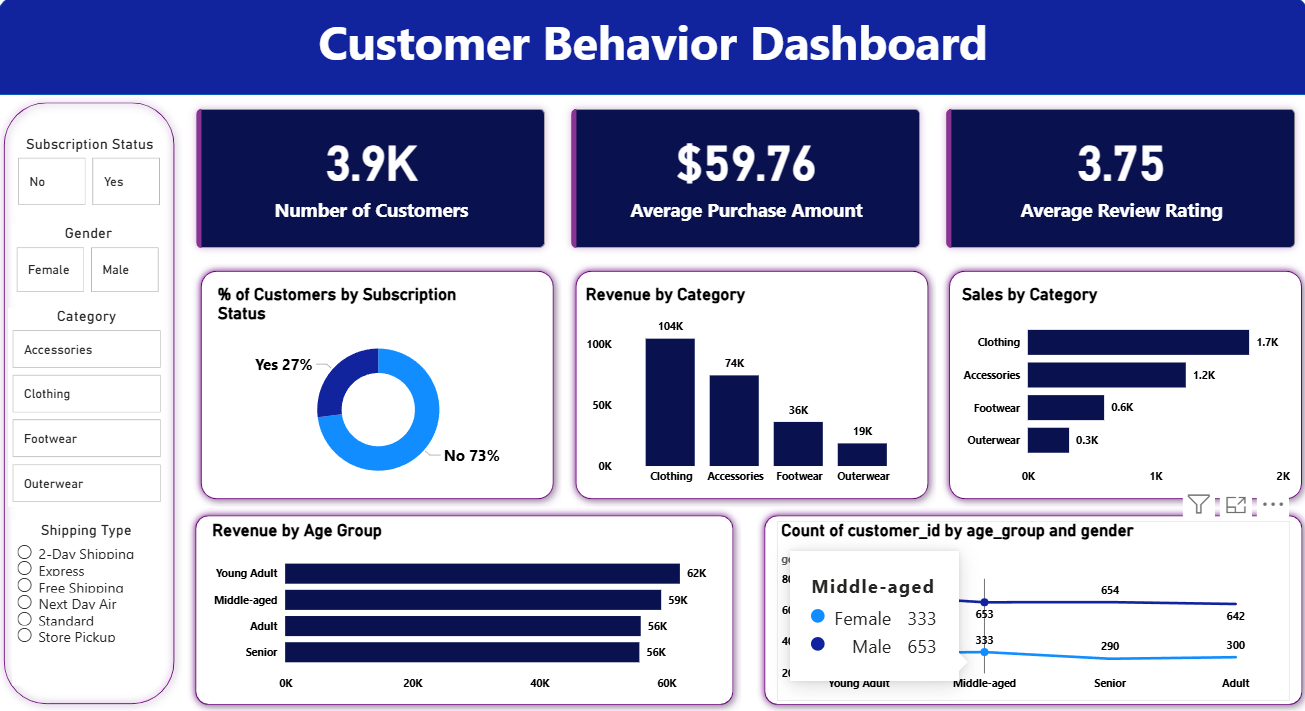

Layout of this report page (visuals, bound fields, positions):
{"tool":"powerbi","page":{"name":"Page 1","canvas":[1500,820],"ordinal":0},"visuals":[{"type":"cardVisual","fields":{"Data":["public customer.Number of Customers","public customer.Average Purchase Amount","public customer.Average Review Rating"]},"box":[212.9,115.3,1286.5,191.6],"z":2000},{"type":"shape","box":[218.3,585.6,631.7,234.2],"z":2500,"group":"g1"},{"type":"shape","box":[0,0,1499.4,115.3],"z":3000},{"type":"textbox","box":[0,12.4,1499.4,102.9],"z":4000},{"type":"shape","box":[225.4,307,420.5,278.6],"z":5000},{"type":"donutChart","title":"% of Customers by Subscription Status","fields":{"Category":["public customer.subscription_status"],"Y":["CountNonNull(public customer.customer_id)"]},"box":[248.4,331.8,376.2,237.8],"z":6000},{"type":"shape","box":[1078.9,307,420.5,278.6],"z":7000},{"type":"shape","box":[652.1,307,420.5,278.6],"z":8000},{"type":"clusteredColumnChart","title":"Revenue by Category","fields":{"Y":["Sum(public customer.purchase_amount)"],"Category":["public customer.category"]},"box":[667.2,331.8,385.1,237.8],"z":9000},{"type":"barChart","title":"Sales by Category","fields":{"Category":["public customer.category"],"Y":["CountNonNull(public customer.customer_id)"]},"box":[1096.6,331.8,385.1,237.8],"z":10000},{"type":"shape","box":[0,114.2,212.6,704.7],"z":11000},{"type":"advancedSlicerVisual","fields":{"Values":["public customer.subscription_status"]},"box":[19.5,161.5,173.9,85.2],"z":12000},{"type":"advancedSlicerVisual","fields":{"Values":["public customer.gender"]},"box":[19.3,263.6,174,82.6],"z":13000},{"type":"advancedSlicerVisual","fields":{"Values":["public customer.category"]},"box":[14.1,358.5,179.2,226.7],"z":14000},{"type":"listSlicer","fields":{"Values":["public customer.shipping_type"]},"box":[19.3,601,168.7,188],"z":15000},{"type":"shape","box":[867.7,585.6,631.7,234.2],"z":16000},{"type":"lineChart","fields":{"Category":["public customer.age_group"],"Y":["CountNonNull(public customer.customer_id)"],"Series":["public customer.gender"]},"box":[890.8,601.5,585.6,204.1],"z":17000},{"type":"barChart","title":"Revenue by Age Group","fields":{"Category":["public customer.age_group"],"Y":["Sum(public customer.purchase_amount)"]},"box":[241.4,601.6,585.6,204.1],"z":17500,"group":"g1"},{"type":"group","id":"g1","title":"Group 1","box":[218.3,585.6,631.7,234.2],"z":17501}]}

Visuals, with their boxes in screenshot pixels (x1, y1, x2, y2), scaled from the page's 1500x820 canvas onto the 1305x711 screenshot:
cardVisual - public customer.Number of Customers x public customer.Average Purchase Amount: 185 100 1304 266
shape: 190 508 740 710
shape: 0 0 1304 100
textbox: 0 11 1304 100
shape: 196 266 562 508
"% of Customers by Subscription Status" donutChart: 216 288 543 494
shape: 939 266 1304 508
shape: 567 266 933 508
"Revenue by Category" clusteredColumnChart: 580 288 916 494
"Sales by Category" barChart: 954 288 1289 494
shape: 0 99 185 710
advancedSlicerVisual - public customer.subscription_status: 17 140 168 214
advancedSlicerVisual - public customer.gender: 17 229 168 300
advancedSlicerVisual - public customer.category: 12 311 168 507
listSlicer - public customer.shipping_type: 17 521 164 684
shape: 755 508 1304 710
lineChart - public customer.age_group x CountNonNull(public customer.customer_id): 775 522 1284 699
"Revenue by Age Group" barChart: 210 522 719 699
"Group 1" group: 190 508 740 710
